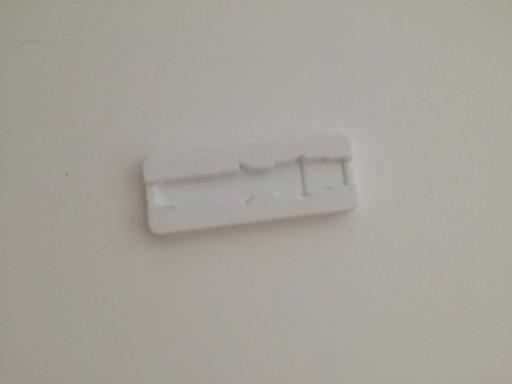plastic: (141, 144, 360, 239)
